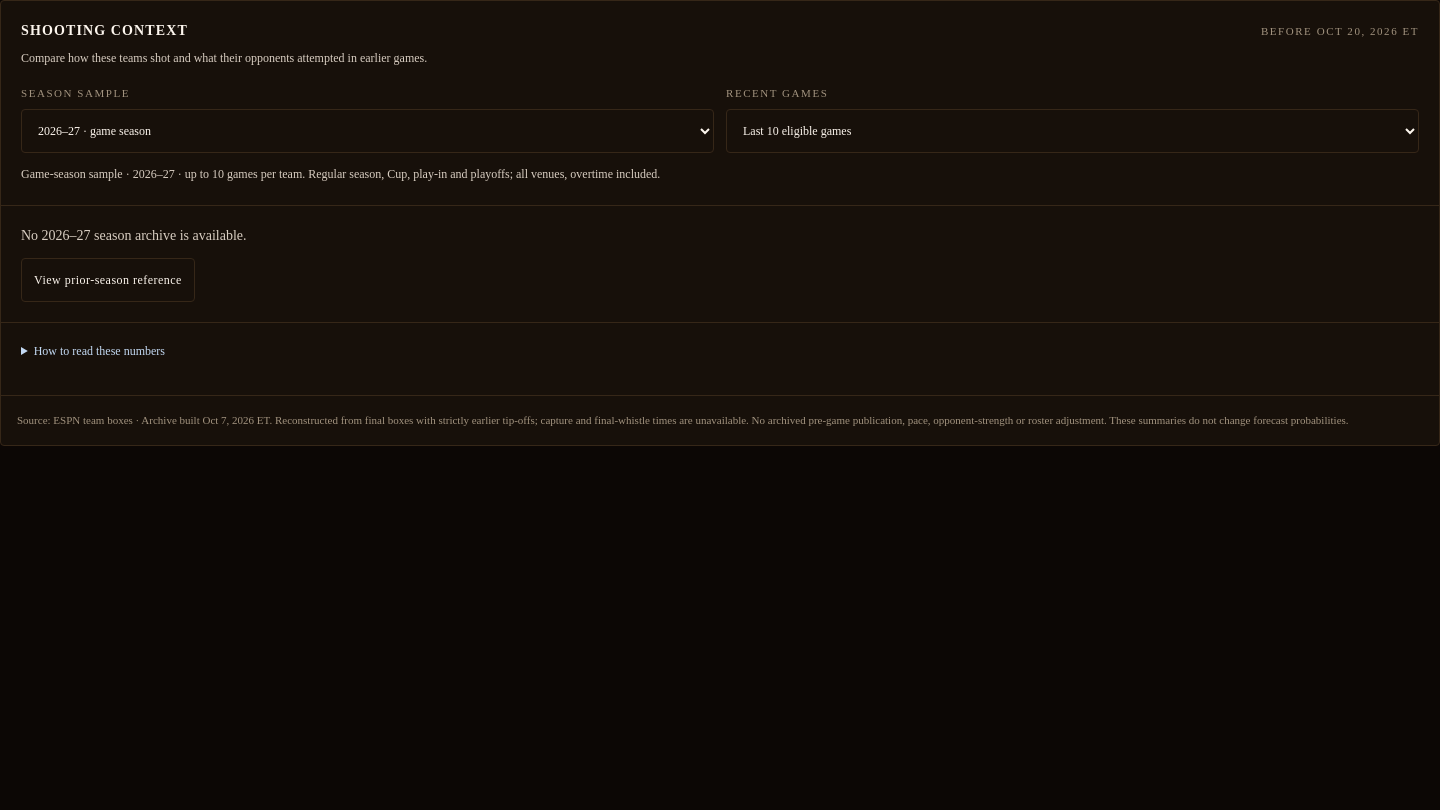
Scenario: offers explicit prior-season recovery and shows ET date, provenance, coverage and missing rates
The image size is (1440, 810).
Expected: the text "No 2026–27 season archive is available." is shown, [21, 228, 246, 242]
Click the button "View prior-season reference". click: (108, 280)
box: [21, 258, 195, 302]
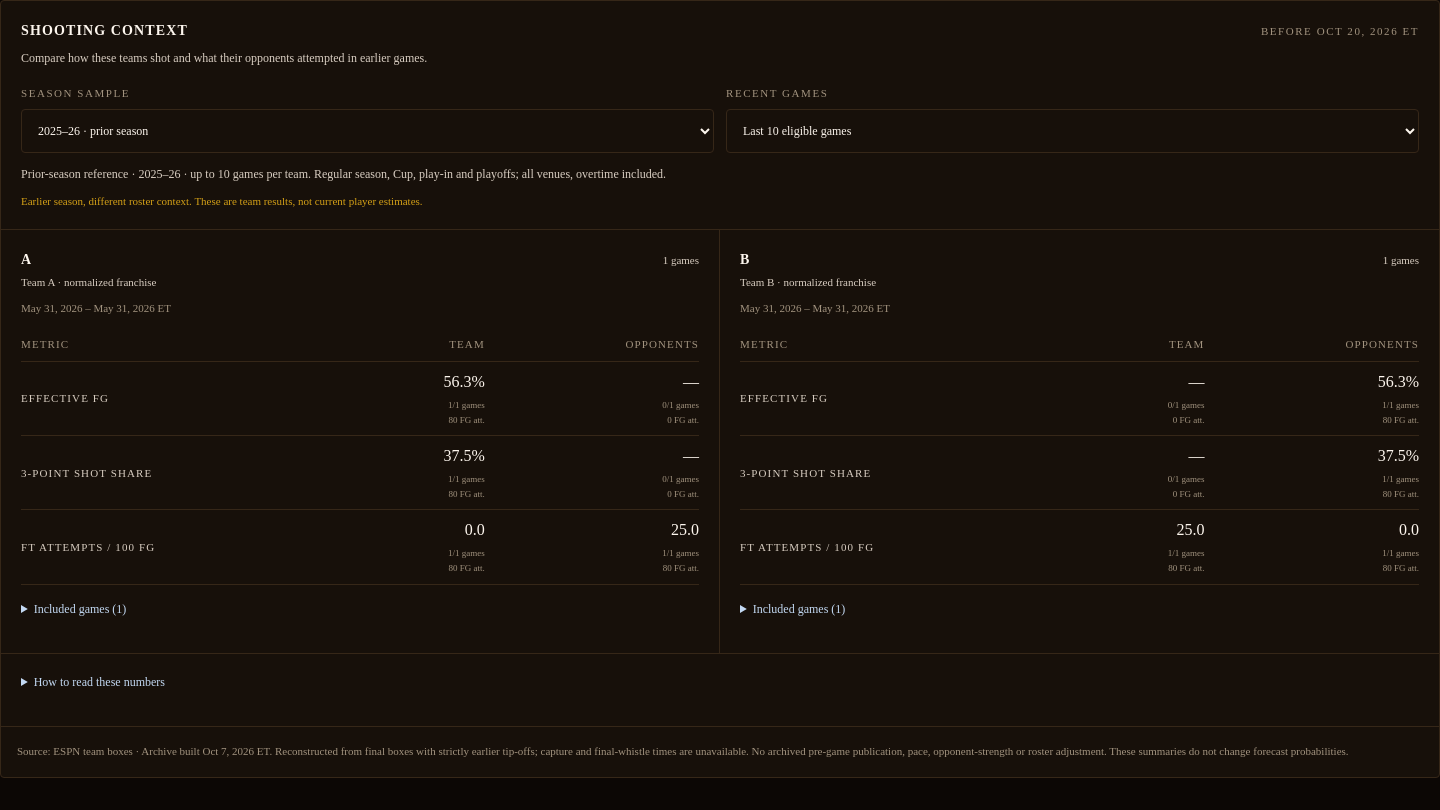
Result: the message shows "Prior-season reference · 2025–26" at [21, 167, 666, 181]
Result: the 1st text "56.3%" is shown at [444, 373, 485, 390]
Result: the 1st text "0.0" is shown at [465, 521, 485, 538]
